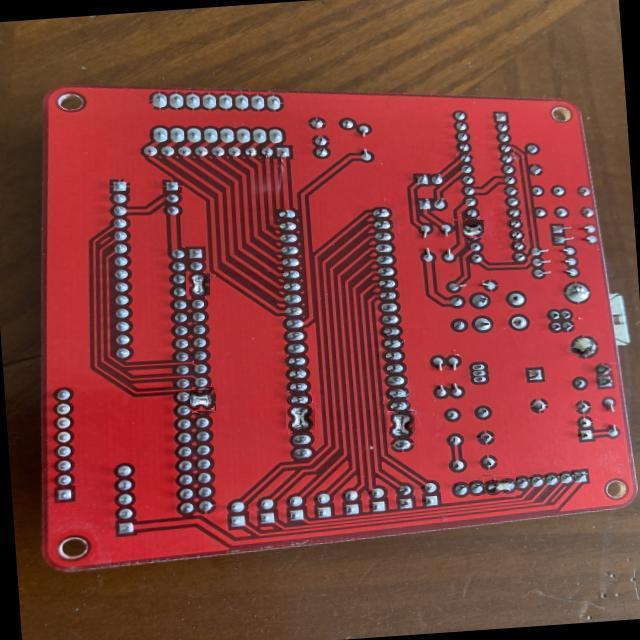damged: (286, 404, 315, 434), (387, 411, 415, 437), (483, 475, 516, 497), (186, 274, 210, 298), (191, 388, 215, 412), (464, 219, 484, 239)
